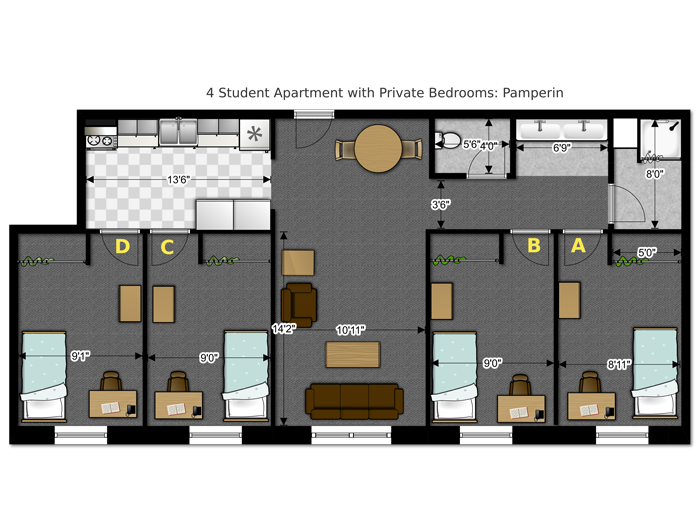door: (513, 236, 552, 275), (292, 120, 332, 157), (561, 234, 599, 272), (615, 185, 649, 226), (103, 236, 143, 268), (260, 239, 300, 271), (467, 138, 507, 170), (149, 236, 189, 268)
